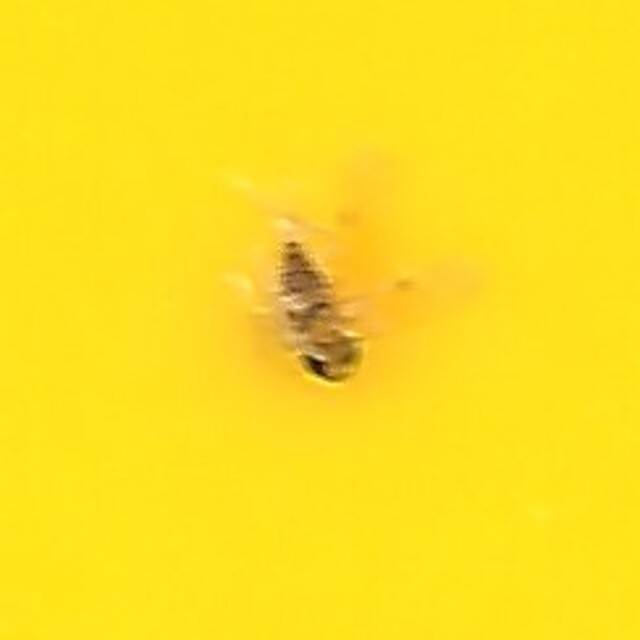Hemiptera: (262, 234, 378, 406)
